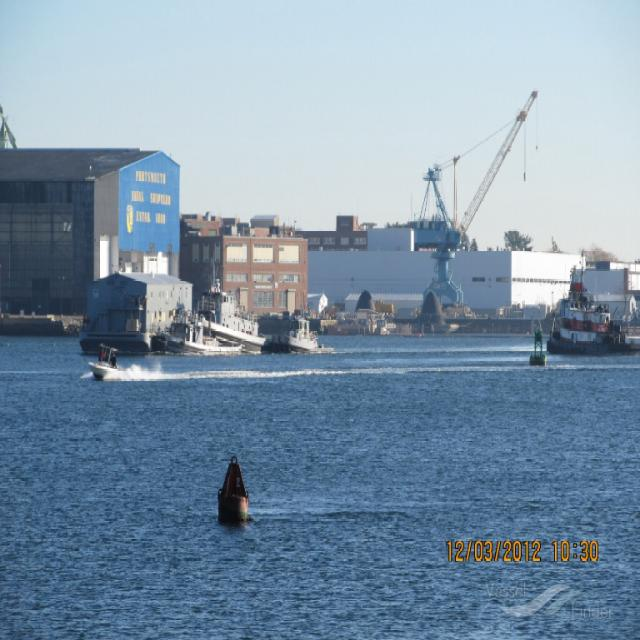Rescue Boat: (86, 347, 122, 377)
tugboat: (549, 264, 639, 359), (147, 306, 247, 358), (197, 277, 263, 331), (259, 311, 331, 359)
